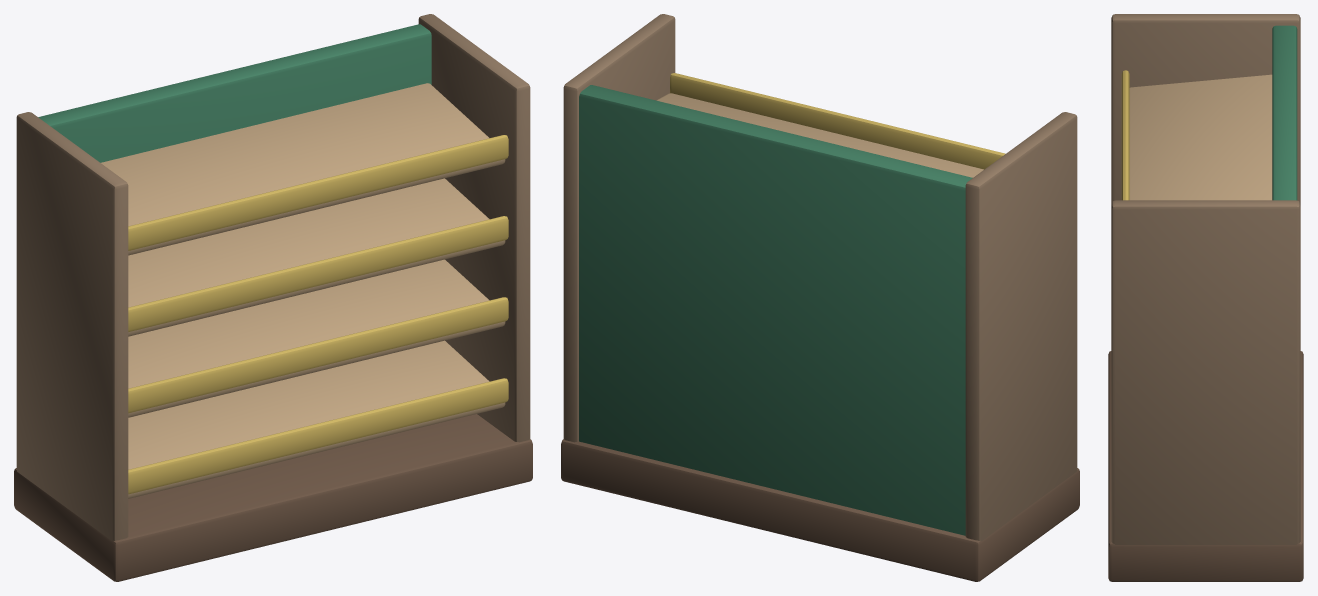
Rendered from snack_rack.glb.
3 views of the same model, side by side, from view 1: azimuth 30°, elevation 25°; view 2: azimuth 150°, elevation 25°; view 3: azimuth 270°, elevation 25° (orthographic). The views are drawn at different scales.
Visible parts, largest first — view 1: snack_rack; view 2: snack_rack; view 3: snack_rack.
Boxes of the visible parts, x1,y1,x2,y2 form: snack_rack: [14, 14, 532, 581]; snack_rack: [561, 14, 1079, 581]; snack_rack: [1108, 14, 1303, 581].
Bounding box in the file's own units: 1.46 × 1.32 × 0.62.
